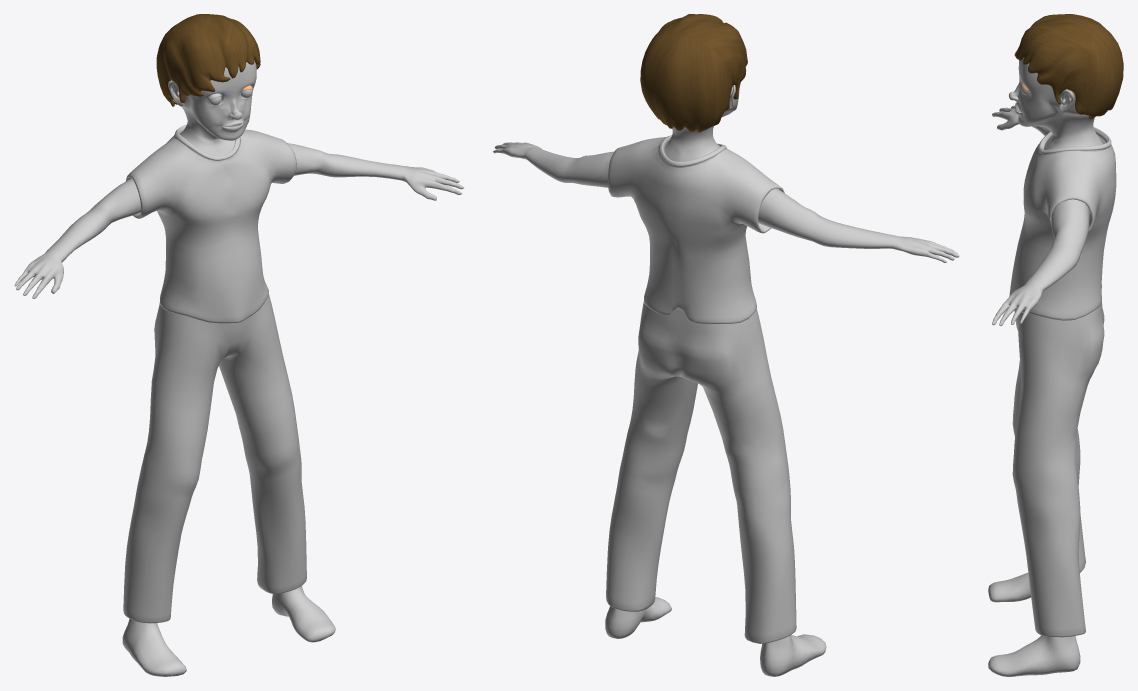
File: Derek-Old.FBX
3 renders of one model, left to right at view 1: azimuth 30°, elevation 25°; view 2: azimuth 150°, elevation 25°; view 3: azimuth 270°, elevation 25°, orthographic. The views are drawn at different scales.
Visible parts, largest first — view 1: Pants, Shirt, GEO-Char_Genaric_Chest002, Derek; view 2: Pants, Shirt, Derek, GEO-Char_Genaric_Chest002; view 3: Pants, Shirt, Derek, GEO-Char_Genaric_Chest002.
Part boxes in pixels (x1,y1,x2,y2): Pants: (123,293,306,623); Shirt: (126,124,296,323); GEO-Char_Genaric_Chest002: (14,60,464,298); Derek: (122,14,335,676); Pants: (606,301,796,643); Shirt: (608,135,784,323); Derek: (605,14,826,676); GEO-Char_Genaric_Chest002: (493,84,959,262); Pants: (1012,302,1104,637); Shirt: (1009,126,1116,320); Derek: (988,14,1123,676); GEO-Char_Genaric_Chest002: (992,57,1102,326).
Size of the model in its own units: 89.63 by 118 by 23.62.
